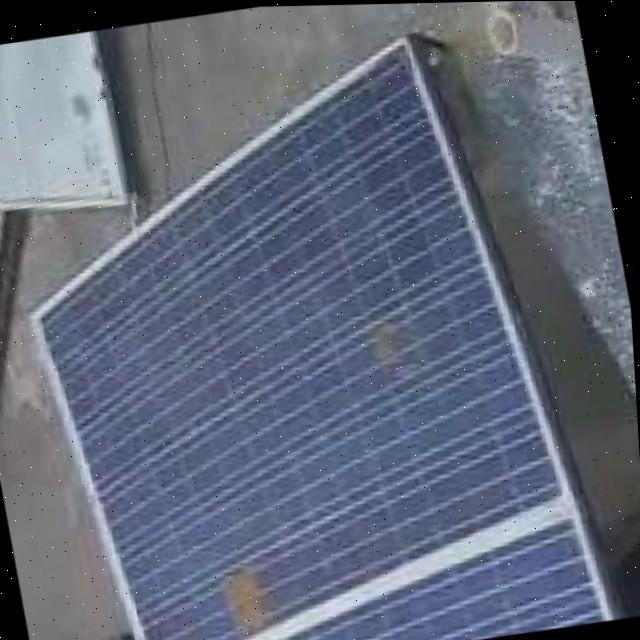Anomaly Solar Panel: (0, 40, 616, 640)
Surface Contaminant: (198, 555, 284, 640), (356, 313, 419, 375)
